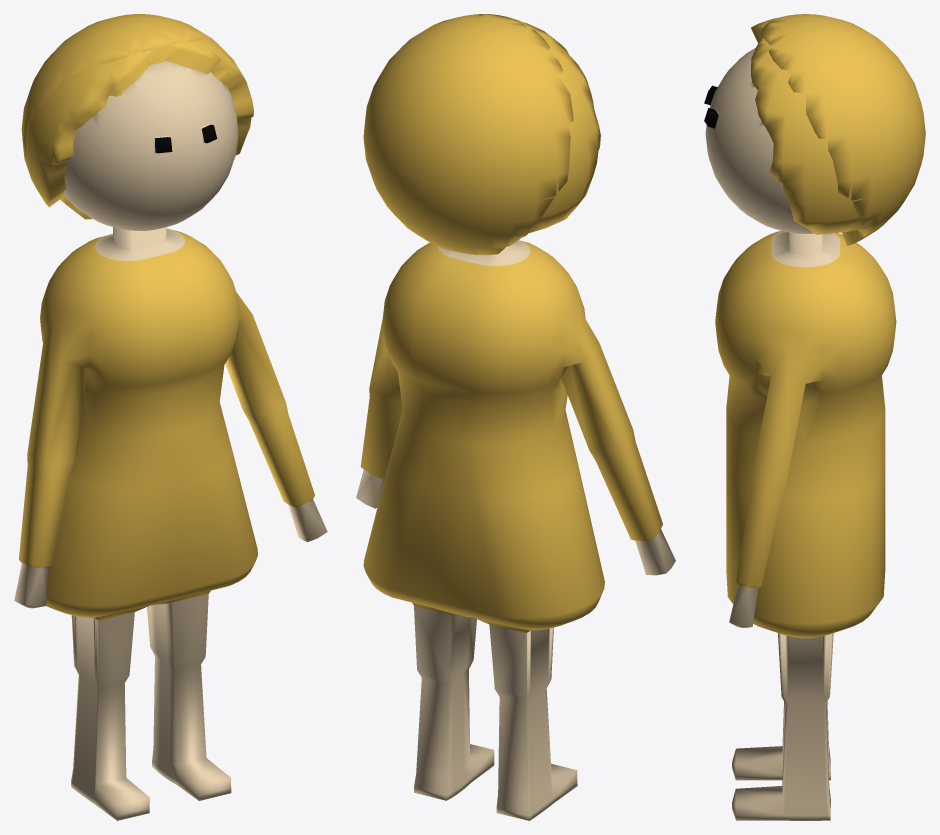
The model's file is wren.glb.
3 views of the same model, side by side, from view 1: azimuth 30°, elevation 25°; view 2: azimuth 150°, elevation 25°; view 3: azimuth 270°, elevation 25° (orthographic). The views are drawn at different scales.
Visible parts, largest first — view 1: Material_001-material, Material_002-material; view 2: Material_001-material, Material_002-material; view 3: Material_001-material, Material_002-material.
Boxes of the visible parts, x1,y1,x2,y2 form: Material_001-material: (19, 14, 314, 620); Material_002-material: (14, 61, 327, 820); Material_001-material: (360, 14, 662, 633); Material_002-material: (356, 240, 675, 820); Material_001-material: (715, 14, 925, 638); Material_002-material: (705, 48, 840, 820).
Size of the model in its own units: 1.51 by 3.61 by 0.9446.
